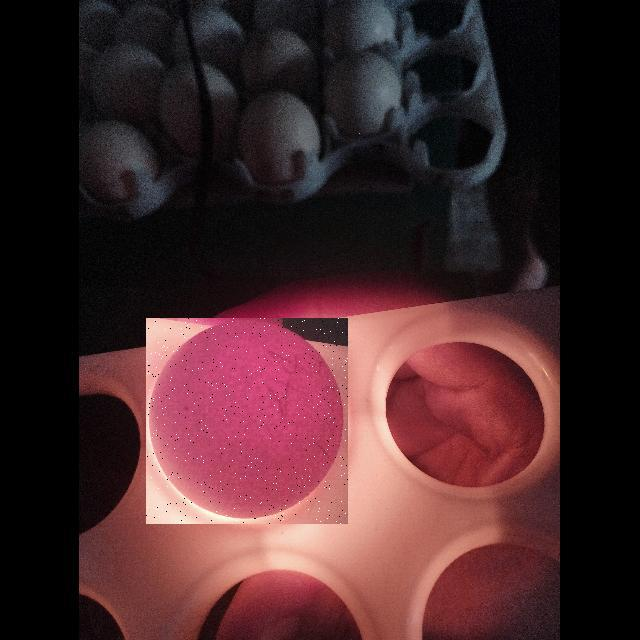Infertile: (146, 318, 348, 524)
